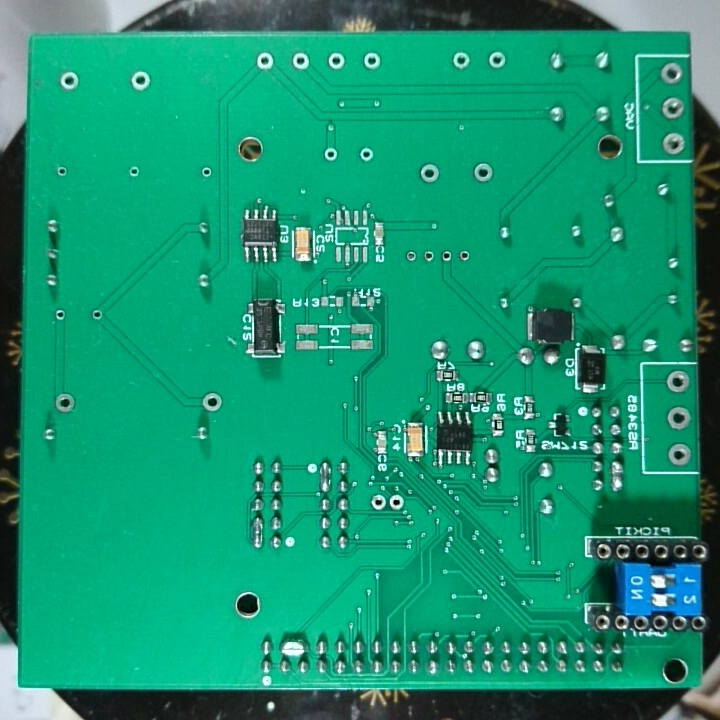F: (665, 403, 694, 432), (657, 59, 685, 87), (665, 440, 692, 469), (659, 95, 689, 121), (665, 368, 692, 395), (659, 128, 685, 155), (57, 67, 82, 95), (416, 160, 442, 186), (469, 160, 496, 185), (128, 66, 152, 94), (53, 389, 78, 415), (199, 390, 224, 415), (254, 49, 277, 74), (290, 49, 313, 73), (325, 50, 349, 73), (450, 49, 474, 72), (361, 49, 384, 72), (486, 49, 508, 72), (368, 491, 389, 515), (387, 492, 408, 513), (419, 245, 437, 268), (454, 243, 472, 266), (437, 244, 454, 268), (124, 161, 142, 181), (357, 143, 375, 163), (321, 143, 339, 162), (88, 305, 105, 325), (403, 247, 420, 267), (198, 163, 214, 183), (52, 306, 68, 324), (54, 162, 68, 182)
P: (248, 513, 267, 553), (317, 458, 334, 495), (277, 636, 310, 655), (608, 458, 627, 491)
